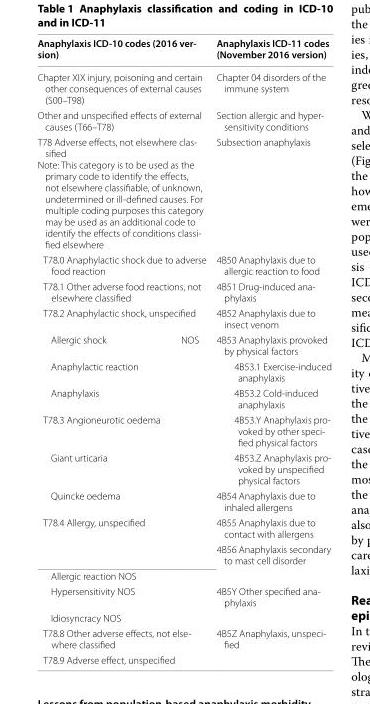table: (36, 36, 330, 665)
table column: (36, 36, 158, 665), (210, 36, 330, 665), (158, 36, 210, 665)
table column header: (36, 36, 330, 65)
table projected row header: (36, 567, 330, 583), (36, 609, 330, 625)
table row: (36, 133, 330, 251), (36, 65, 330, 107), (36, 411, 330, 449), (36, 449, 330, 487), (36, 36, 330, 65), (36, 251, 330, 278), (36, 304, 330, 331), (36, 331, 330, 358), (36, 384, 330, 411), (36, 487, 330, 514), (36, 514, 330, 541), (36, 107, 330, 133), (36, 278, 330, 304), (36, 358, 330, 384), (36, 541, 330, 567), (36, 583, 330, 609), (36, 625, 330, 651), (36, 567, 330, 583), (36, 609, 330, 625), (36, 651, 330, 665)
table spanning cell: (36, 133, 210, 251), (36, 514, 210, 567), (36, 65, 210, 107), (36, 411, 210, 449), (36, 449, 210, 487), (36, 36, 210, 65), (210, 625, 330, 665), (36, 251, 210, 278), (36, 304, 210, 331), (36, 487, 210, 514), (36, 107, 210, 133), (36, 278, 210, 304), (36, 583, 210, 609), (36, 625, 210, 651), (158, 331, 210, 411), (36, 651, 210, 665)
